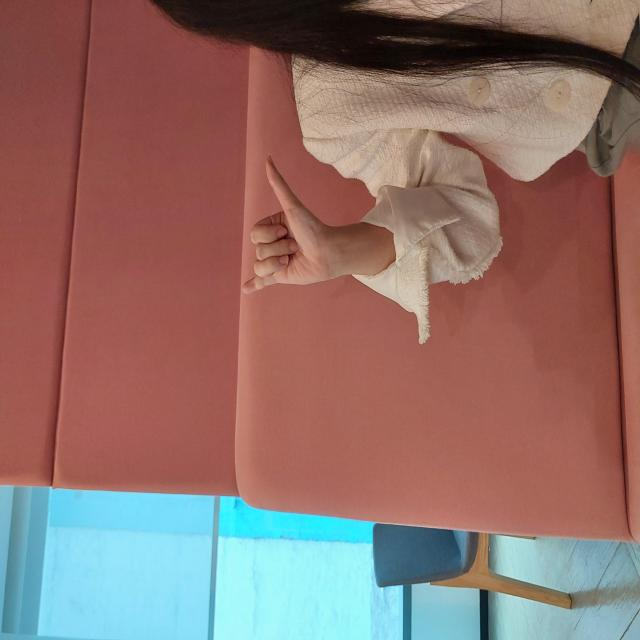Y: (344, 242, 484, 326)
